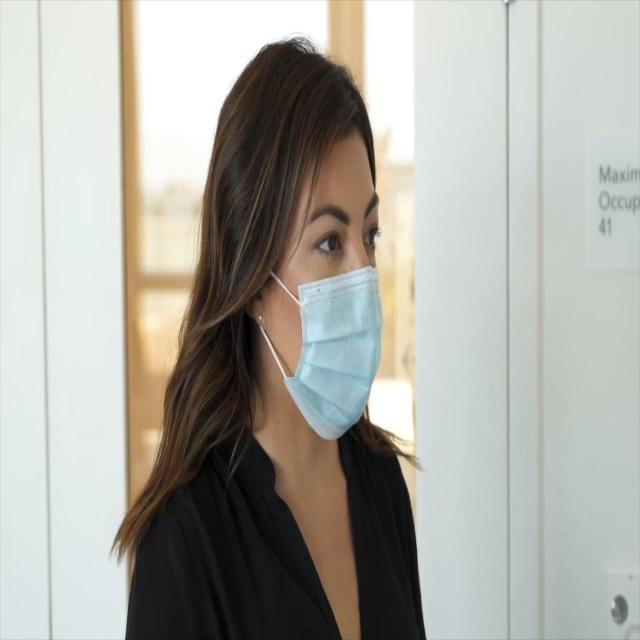1_mascarilla: (262, 266, 383, 440)
